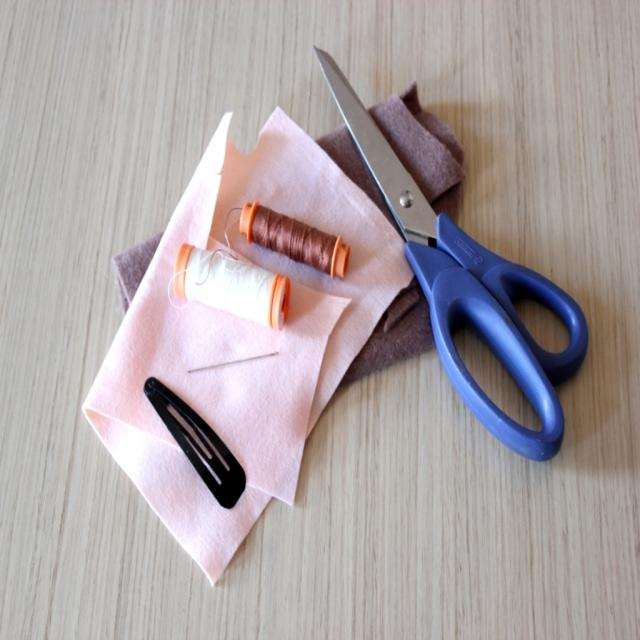scissors: (312, 44, 589, 462)
